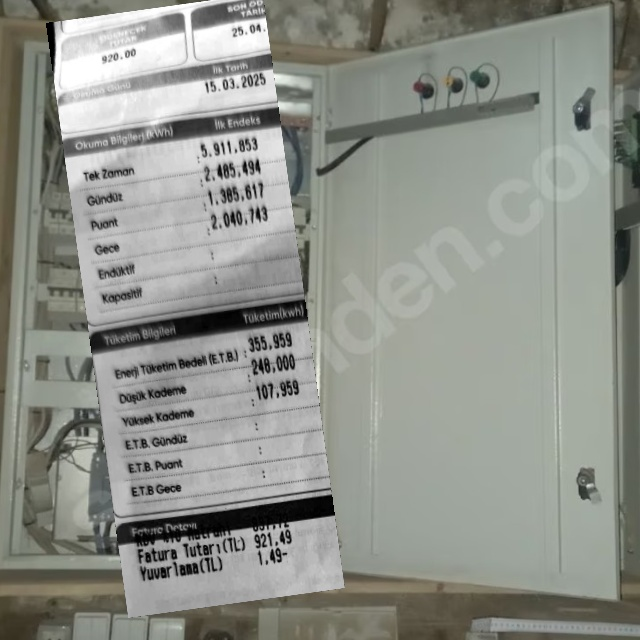electricity-bill: (46, 0, 345, 617)
